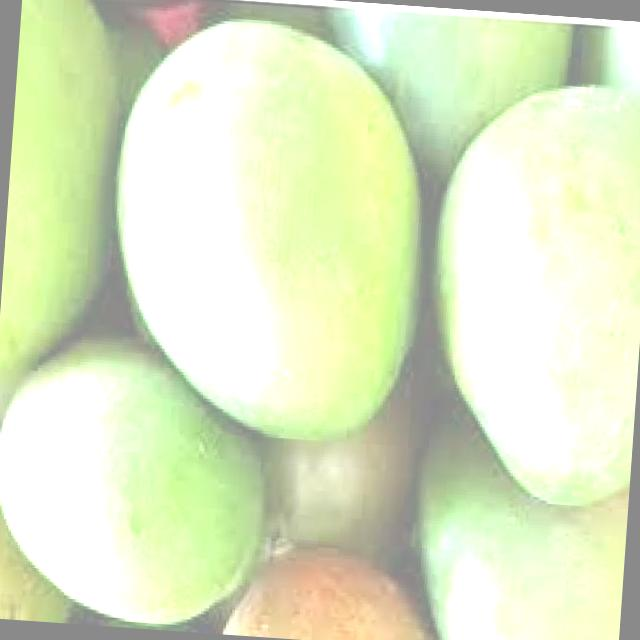Mango: (90, 11, 432, 457), (424, 74, 640, 518), (0, 337, 281, 628), (0, 0, 139, 424), (406, 407, 633, 640), (309, 0, 582, 181), (220, 548, 437, 640)
